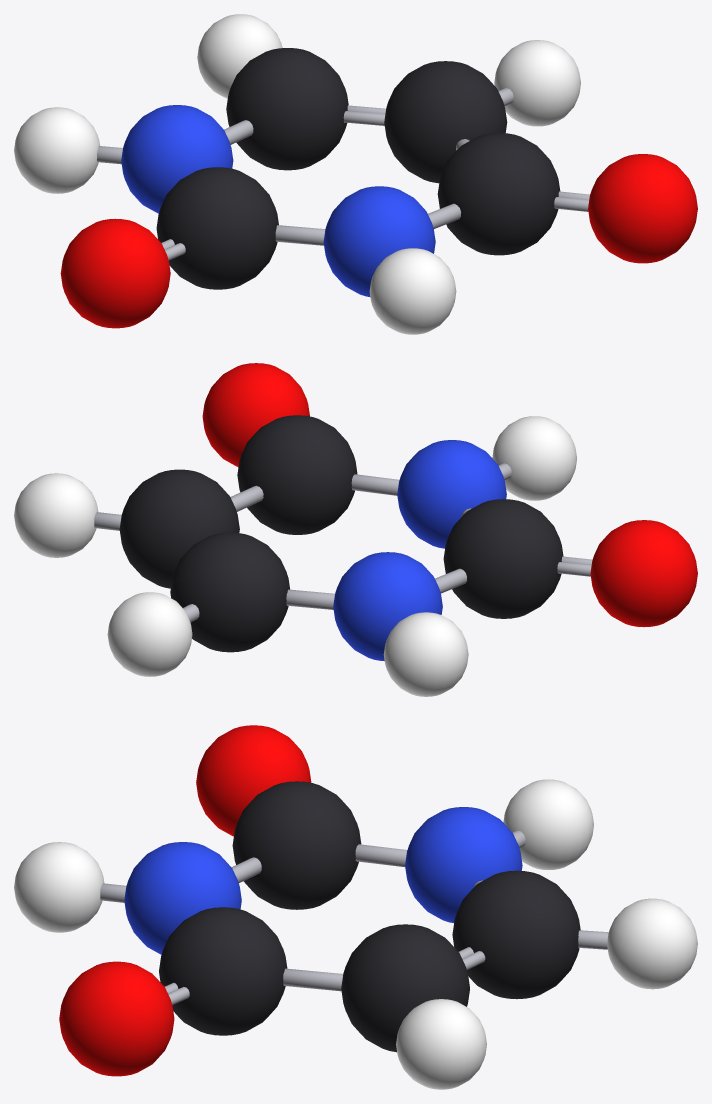
The model's file is uracil.glb.
3 renders of one model, top to bottom at view 1: azimuth 30°, elevation 25°; view 2: azimuth 150°, elevation 25°; view 3: azimuth 270°, elevation 25°, orthographic. The views are drawn at different scales.
Parts seen in each view (by area): view 1: C1, C3, C5, C2, O0, O6, N7, N4, H11, H10, H8, H9 (+3 smaller); view 2: C5, C1, C3, O6, C2, N7, N4, O0, H9, H10, H8, H11 (+3 smaller); view 3: C5, C1, C3, C2, O0, N4, N7, O6, H8, H9, H11, H10 (+2 smaller).
Boxes of the visible parts, left/top/right/bottom form: C1: left=437, top=133, right=560, bottom=255; C3: left=226, top=48, right=348, bottom=170; C5: left=156, top=167, right=278, bottom=289; C2: left=384, top=61, right=507, bottom=183; O0: left=588, top=154, right=697, bottom=263; O6: left=60, top=218, right=170, bottom=328; N7: left=323, top=186, right=435, bottom=296; N4: left=121, top=105, right=233, bottom=213; H11: left=369, top=248, right=456, bottom=334; H10: left=14, top=107, right=99, bottom=193; H8: left=494, top=40, right=580, bottom=126; H9: left=197, top=14, right=282, bottom=98; C5: left=443, top=499, right=563, bottom=618; C1: left=237, top=415, right=357, bottom=534; C3: left=170, top=532, right=289, bottom=652; O6: left=590, top=520, right=697, bottom=627; C2: left=119, top=469, right=239, bottom=588; N7: left=397, top=440, right=506, bottom=548; N4: left=333, top=552, right=442, bottom=660; O0: left=202, top=363, right=309, bottom=467; H9: left=107, top=592, right=192, bottom=676; H10: left=383, top=612, right=468, bottom=696; H8: left=14, top=473, right=98, bottom=557; H11: left=492, top=416, right=576, bottom=500; C5: left=232, top=781, right=361, bottom=909; C1: left=159, top=907, right=287, bottom=1035; C3: left=452, top=870, right=580, bottom=999; C2: left=341, top=924, right=469, bottom=1052; O0: left=59, top=961, right=174, bottom=1076; N4: left=405, top=807, right=522, bottom=922; N7: left=124, top=842, right=241, bottom=954; O6: left=196, top=725, right=311, bottom=836; H8: left=396, top=999, right=486, bottom=1089; H9: left=607, top=898, right=697, bottom=989; H11: left=14, top=842, right=104, bottom=932; H10: left=503, top=779, right=593, bottom=869.
Bounding box in the file's own units: 5.71 × 1.02 × 5.41.
